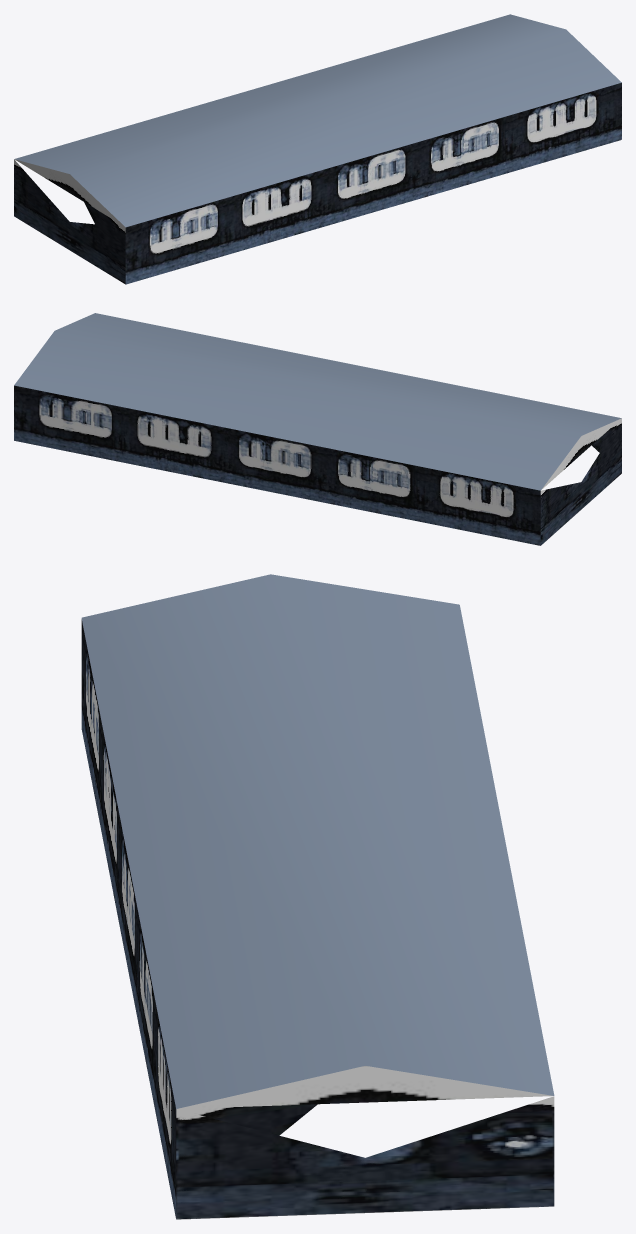
File: Verwaltungsgebaeude_2.gltf
3 views of the same model, one above another, from view 1: azimuth 30°, elevation 25°; view 2: azimuth 150°, elevation 25°; view 3: azimuth 270°, elevation 25° (orthographic). The views are drawn at different scales.
Parts seen in each view (by area): view 1: Dach.1; view 2: Dach.1; view 3: Dach.1.
Part boxes in pixels (left/top/right/bottom): Dach.1: left=14, top=14, right=621, bottom=284; Dach.1: left=14, top=313, right=621, bottom=545; Dach.1: left=81, top=574, right=554, bottom=1219.
Bounding box in the file's own units: 44 × 6.02 × 17.45.
4 materials, 3 textured.
